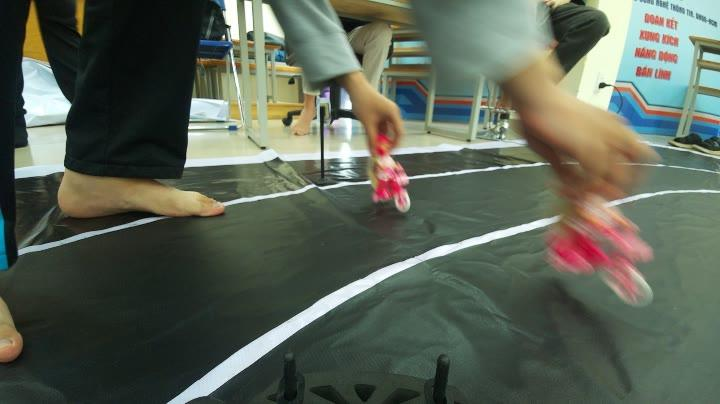pedestrian: (364, 140, 415, 210)
